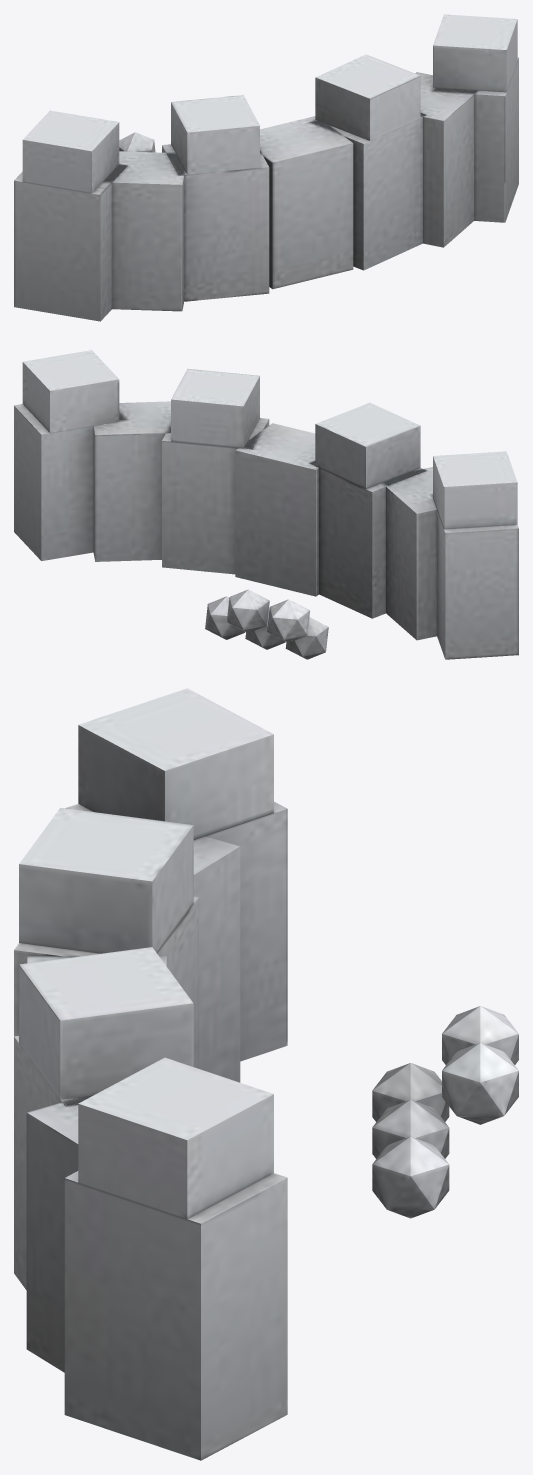
File: fuerte_nieve.glb
3 renders of one model, top to bottom at view 1: azimuth 30°, elevation 25°; view 2: azimuth 150°, elevation 25°; view 3: azimuth 270°, elevation 25°, orthographic. The views are drawn at different scales.
Parts seen in each view (by area): view 1: fuerte_nieve; view 2: fuerte_nieve; view 3: fuerte_nieve.
Part boxes in pixels (bbox=[...]): fuerte_nieve: bbox=[14, 14, 518, 321]; fuerte_nieve: bbox=[14, 350, 518, 659]; fuerte_nieve: bbox=[14, 688, 518, 1460].
Bounding box in the file's own units: 3.13 × 1.01 × 1.45.
Materials: 1 (1 with a texture image).
